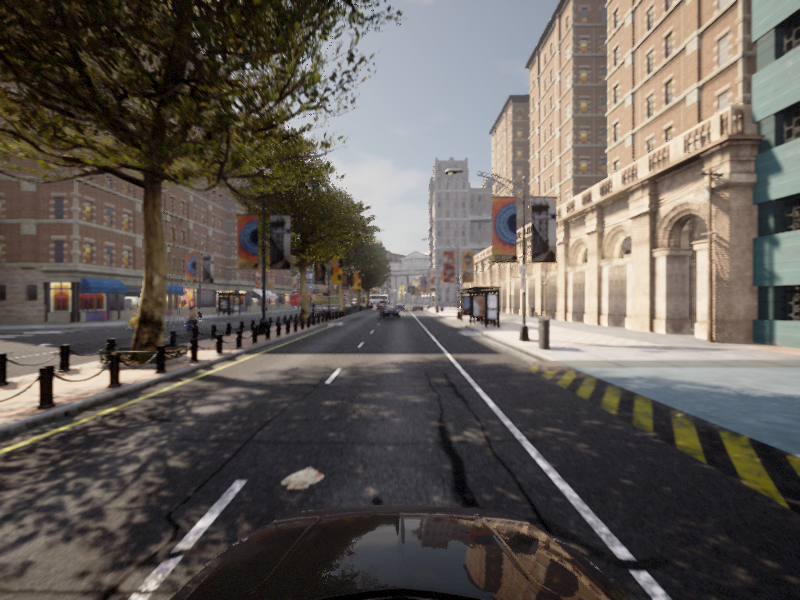vehicle: (122, 305, 158, 331), (175, 306, 205, 337), (378, 305, 400, 318)
